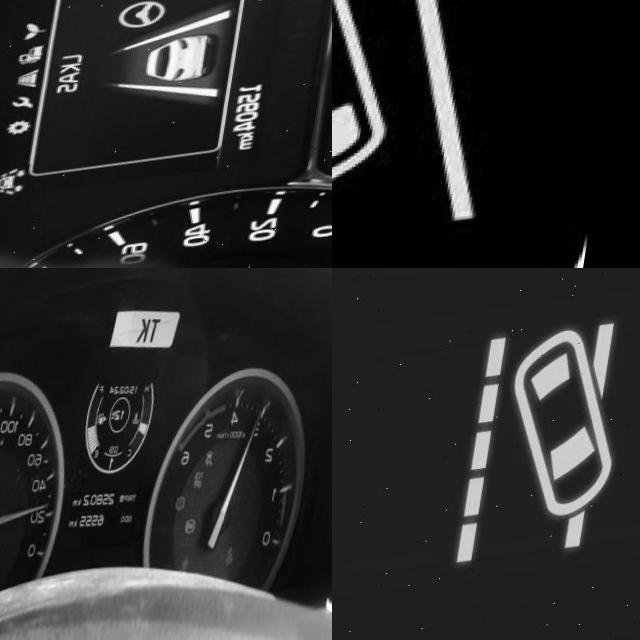Seat Belt: (236, 558, 248, 580)
